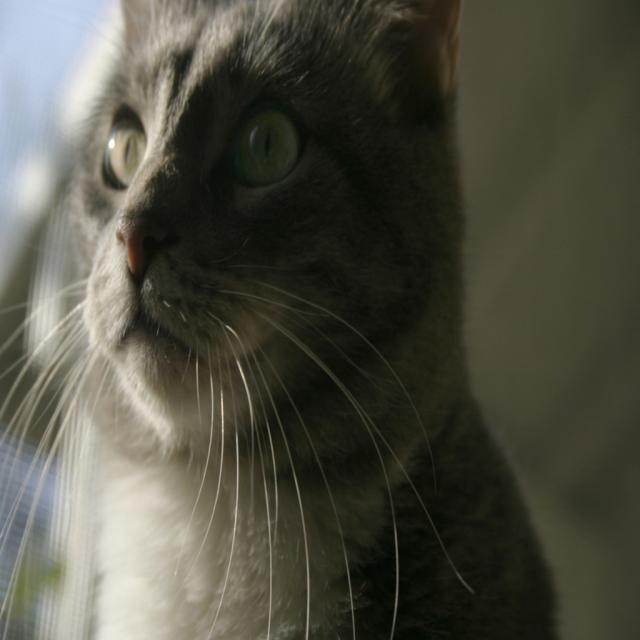Cat: (1, 0, 577, 639)
